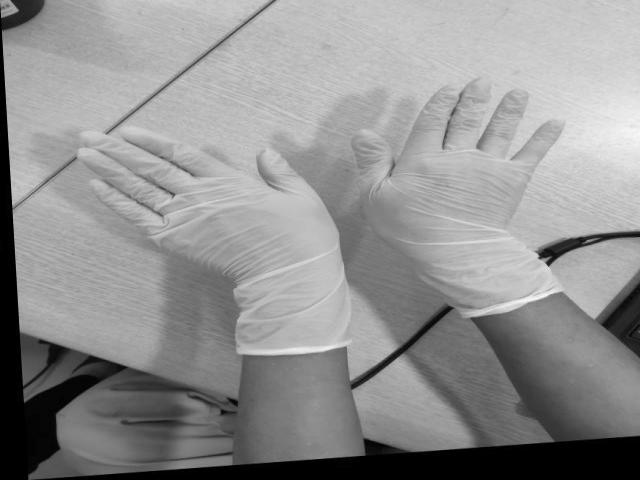gloved: (72, 131, 338, 283), (354, 79, 556, 260)
